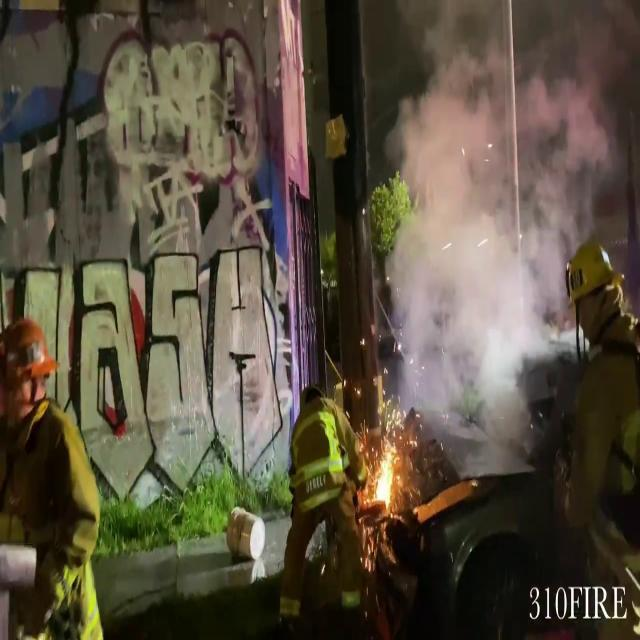Smoke: (382, 2, 606, 452)
